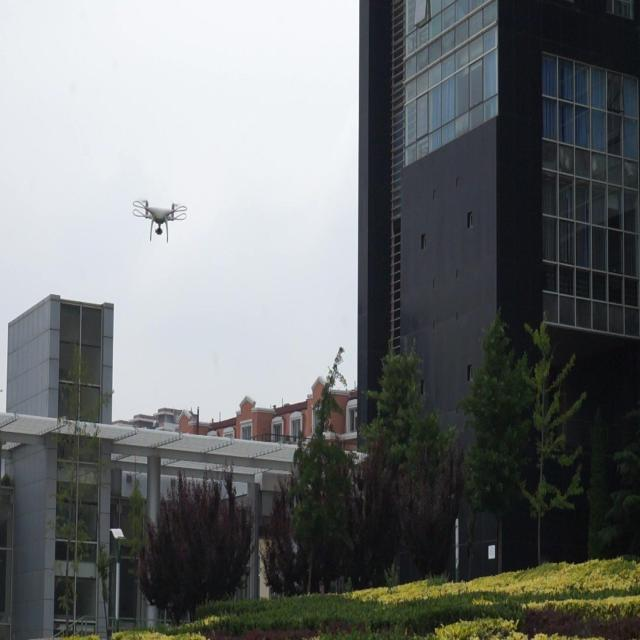drone: (131, 193, 187, 250)
